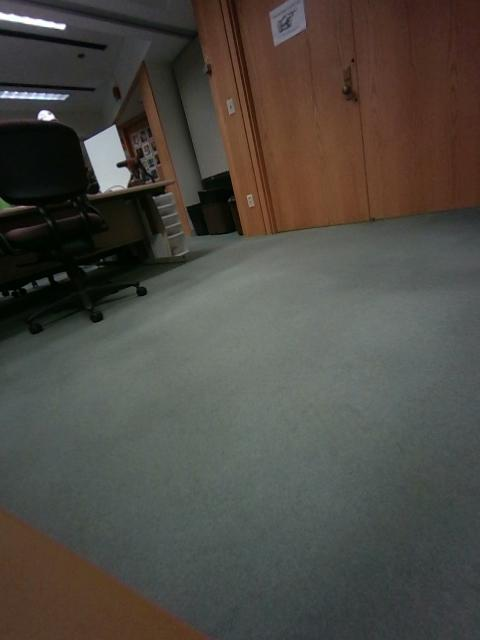block: (439, 285, 475, 368)
